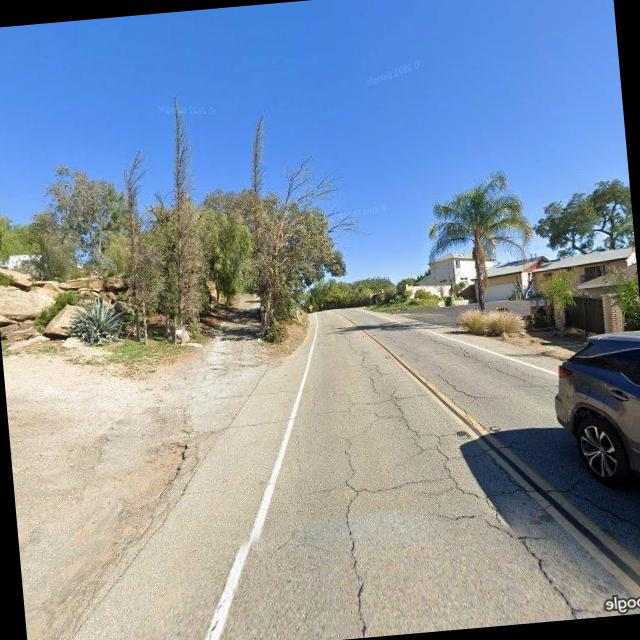crack: (311, 332, 592, 632)
